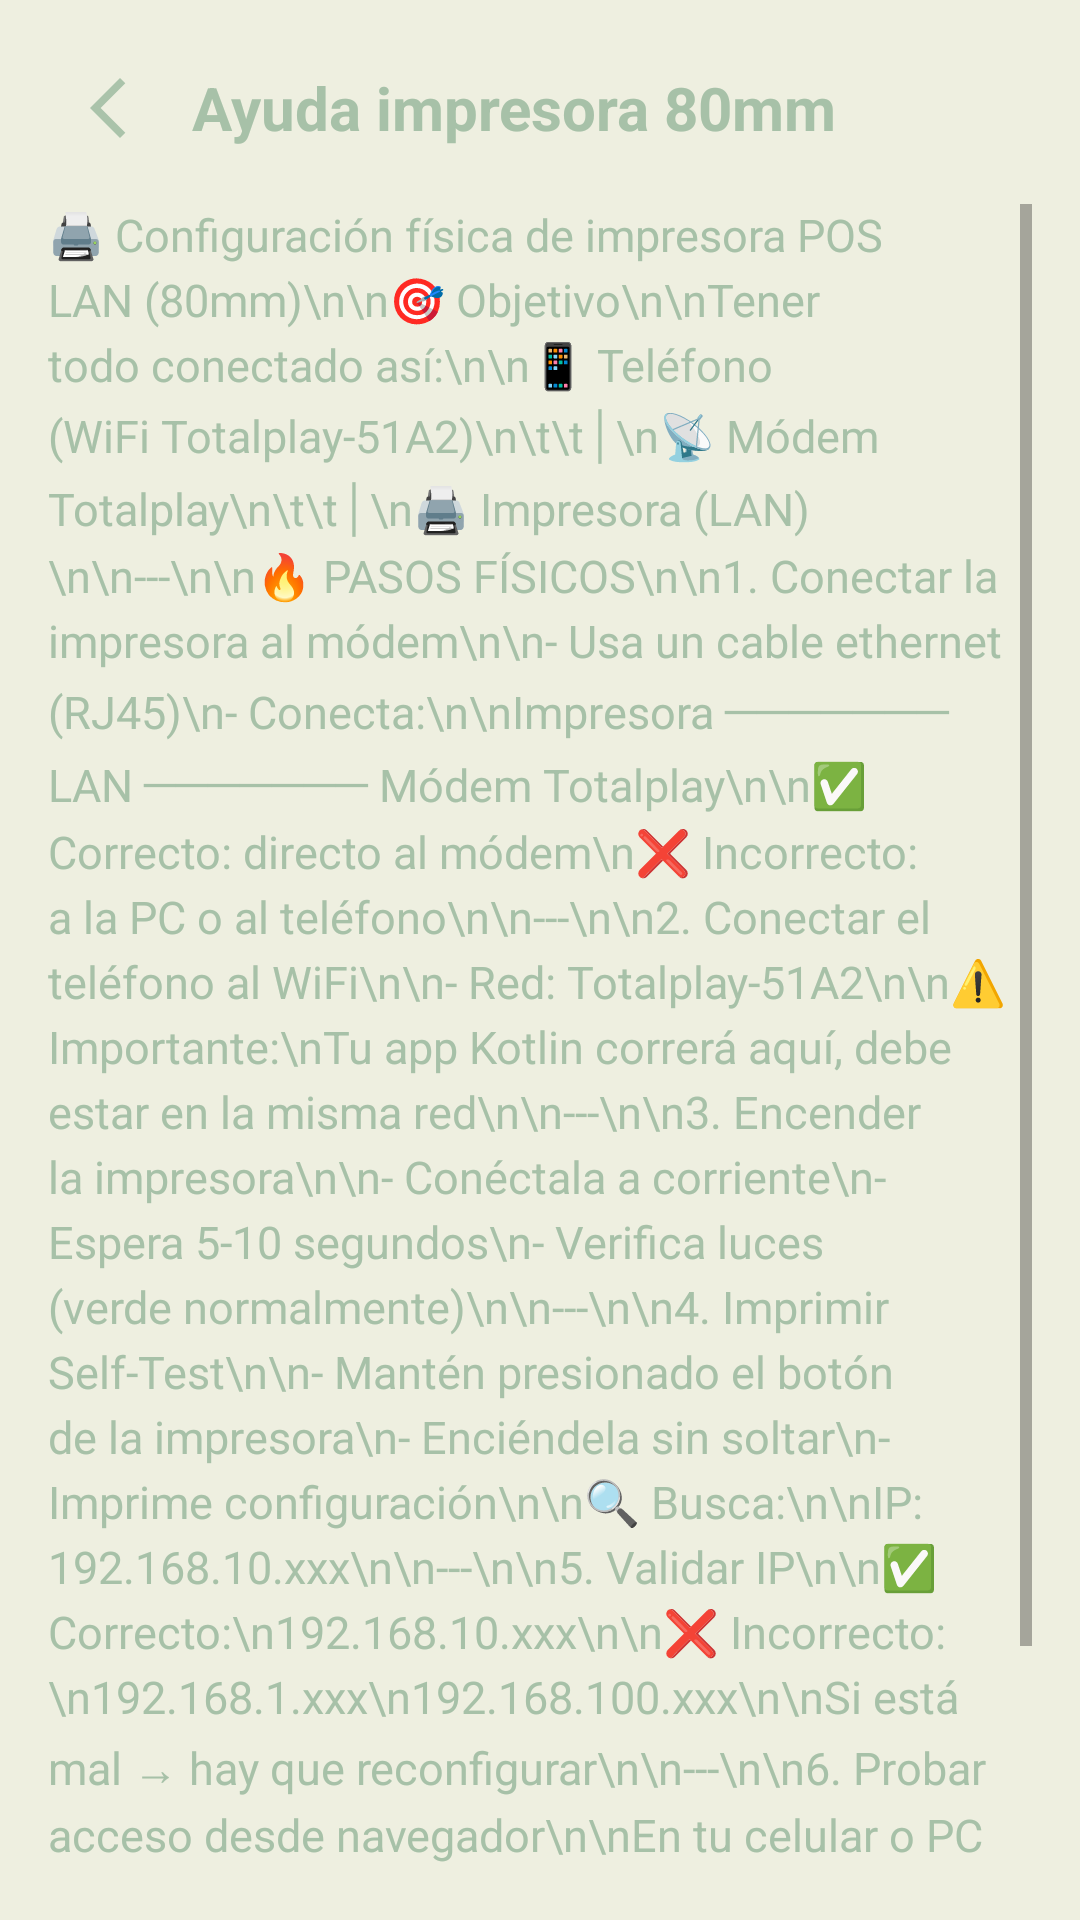

Icons on this 1080*1920 Android screen, each with the point to tap as [x,y]:
Regresar: [107,108]
